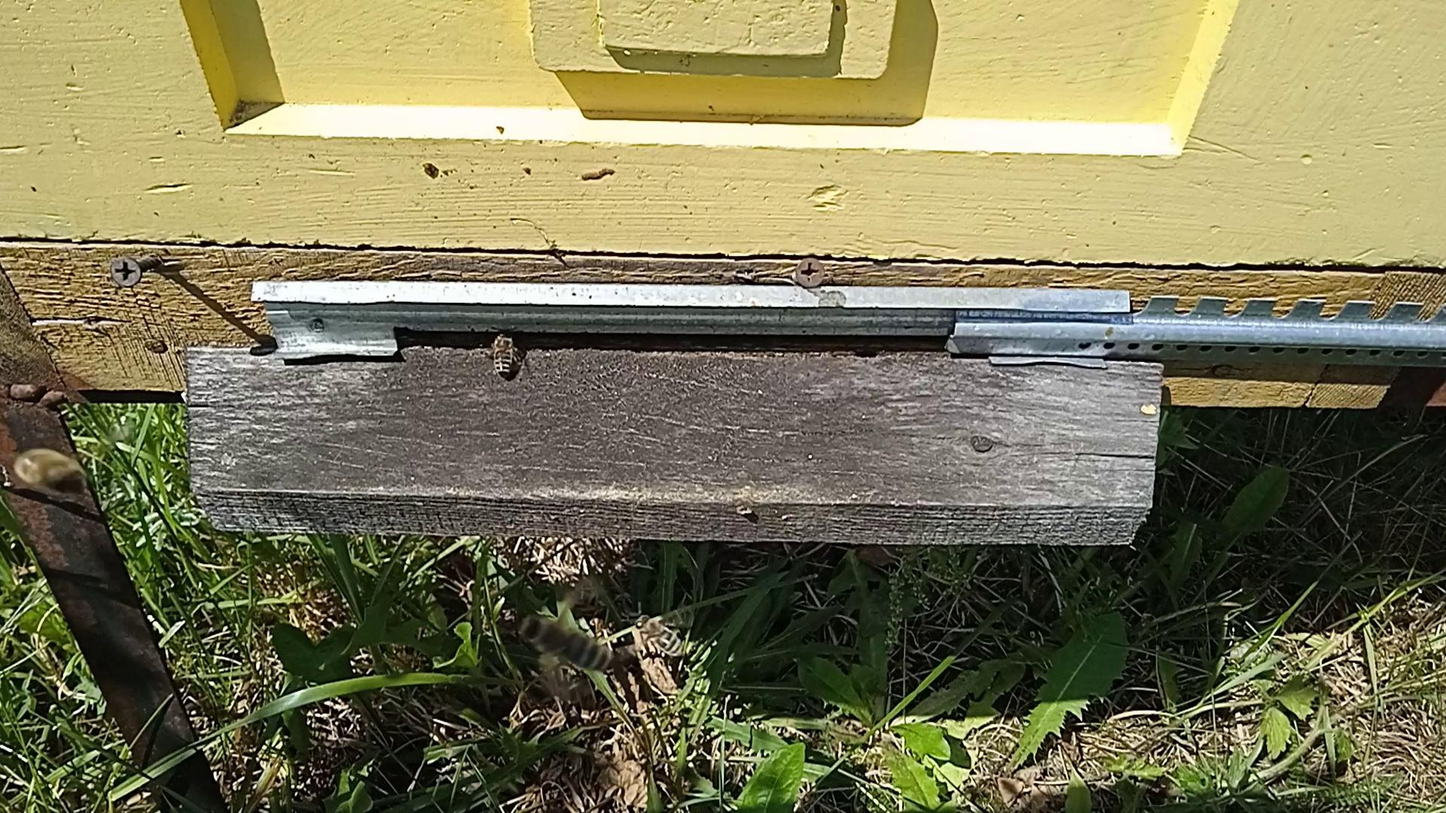worker-bee: (515, 613, 614, 673), (8, 445, 87, 502), (633, 612, 682, 656), (490, 331, 520, 378)
